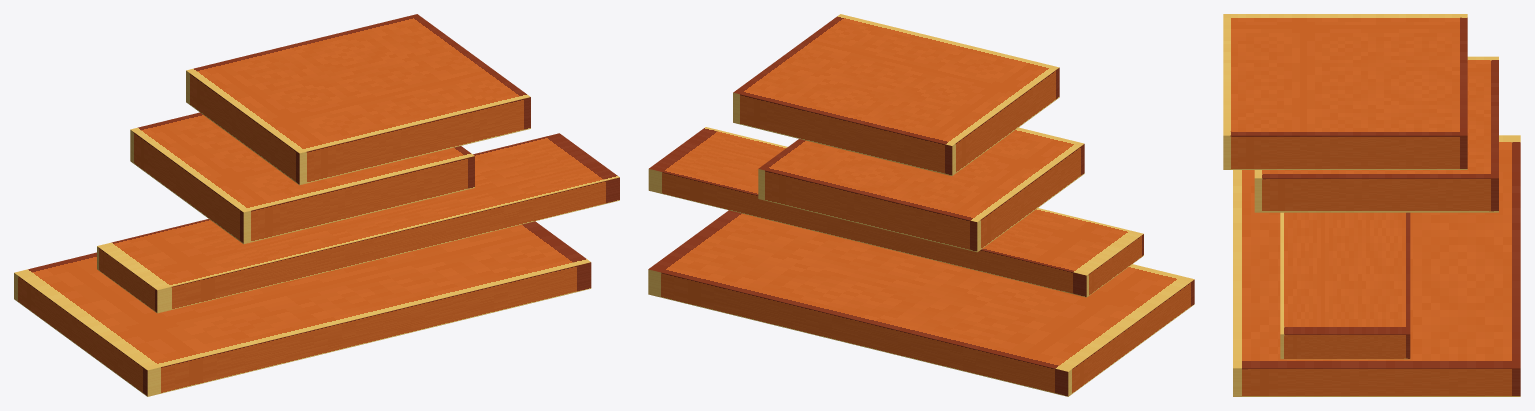
File: bench_chestplate_0_hot.obj
The picture shows the model from 3 angles, left to right: view 1: azimuth 30°, elevation 25°; view 2: azimuth 150°, elevation 25°; view 3: azimuth 270°, elevation 25°; orthographic projection. The views are drawn at different scales.
Parts seen in each view (by area): view 1: geometry; view 2: geometry; view 3: geometry.
Part boxes in pixels (x1=…): geometry: x1=14, y1=14, x2=619, y2=396; geometry: x1=648, y1=14, x2=1194, y2=396; geometry: x1=1223, y1=14, x2=1520, y2=396.
Bounding box in the file's own units: 0.6132 × 0.25 × 0.2968.
